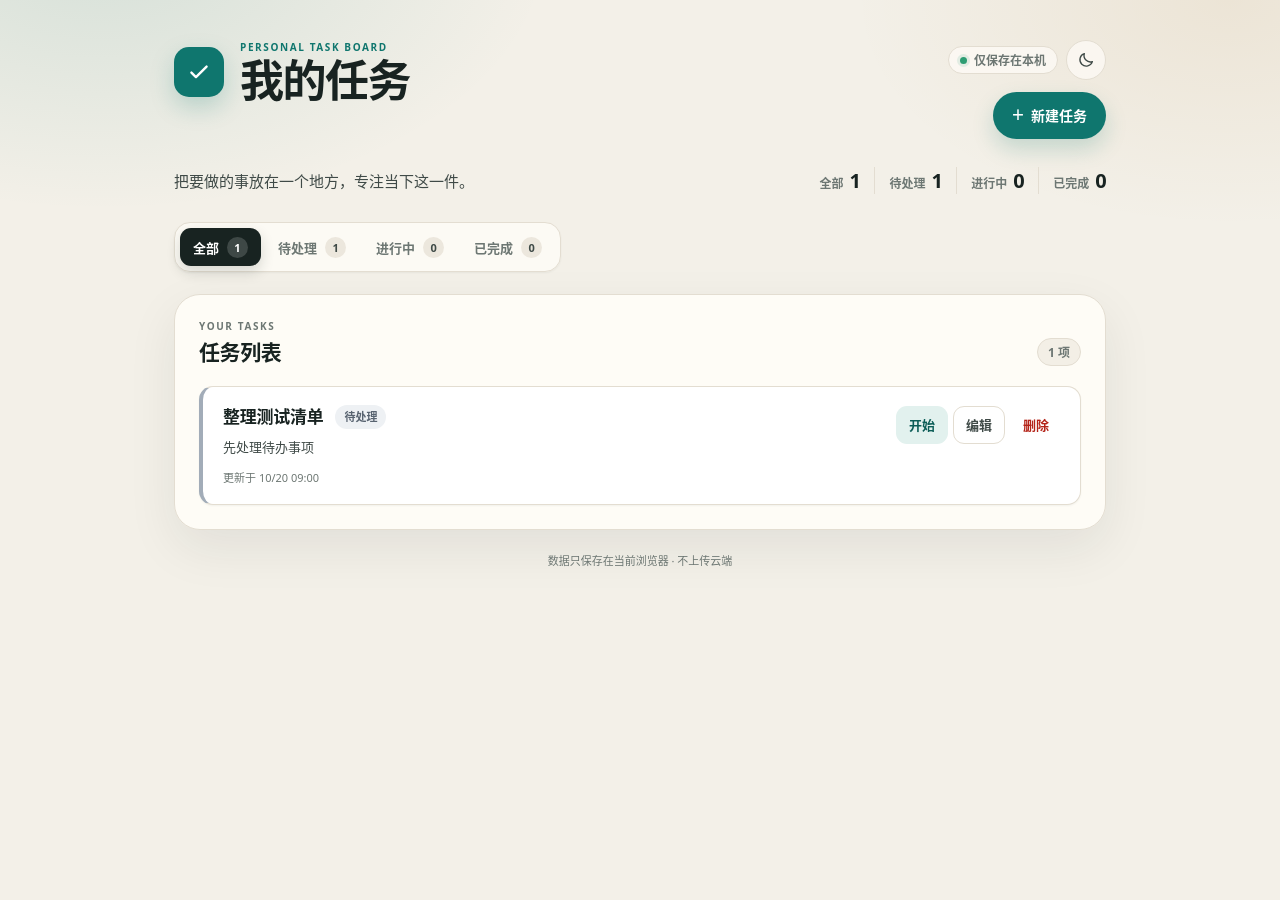
empty board and filters › shows an empty state for a filter with no matches
Click the button "已完成 0" at (508, 247), box [461,228,555,266]
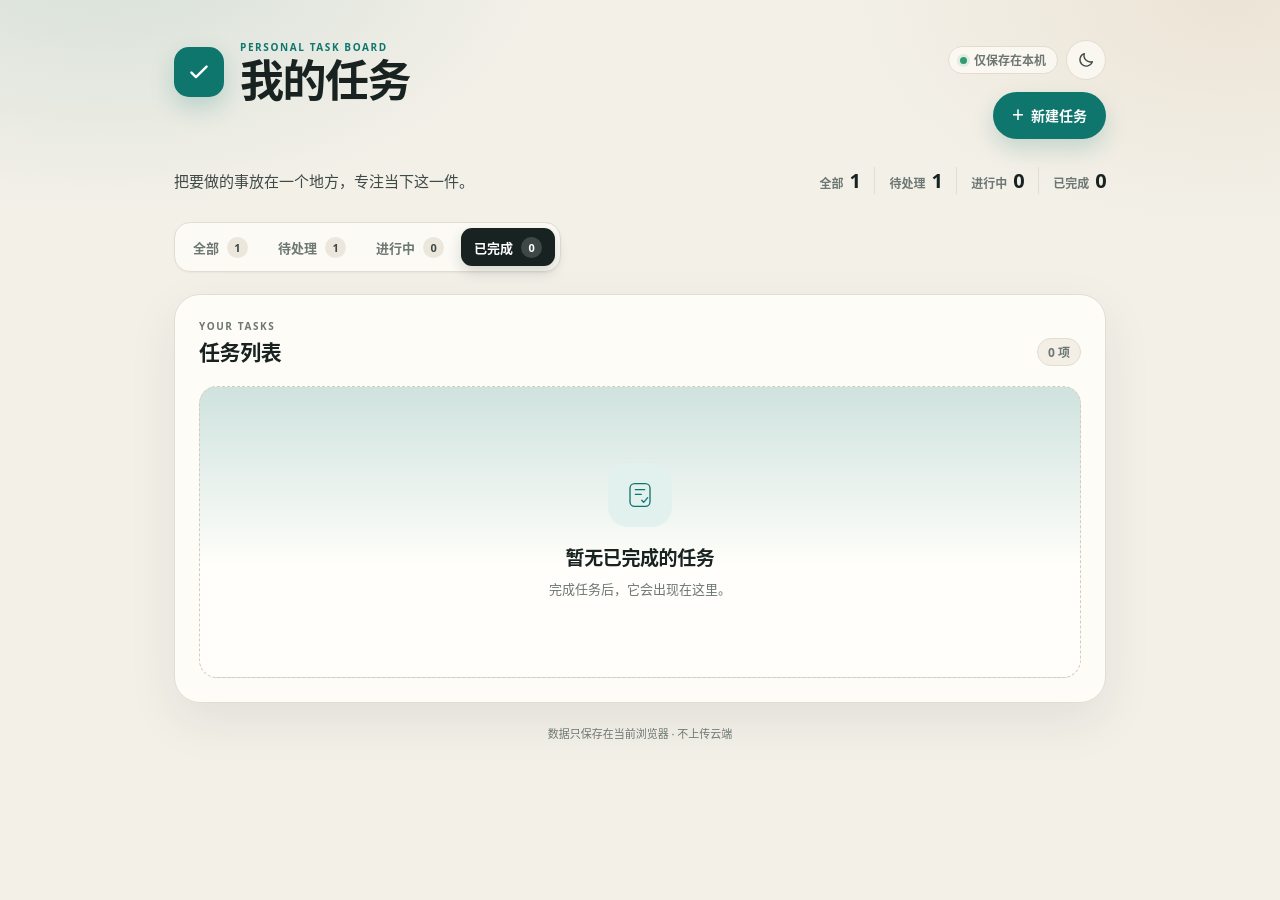
Expected: the heading "暂无已完成的任务" is shown, [566,544,714,572]
